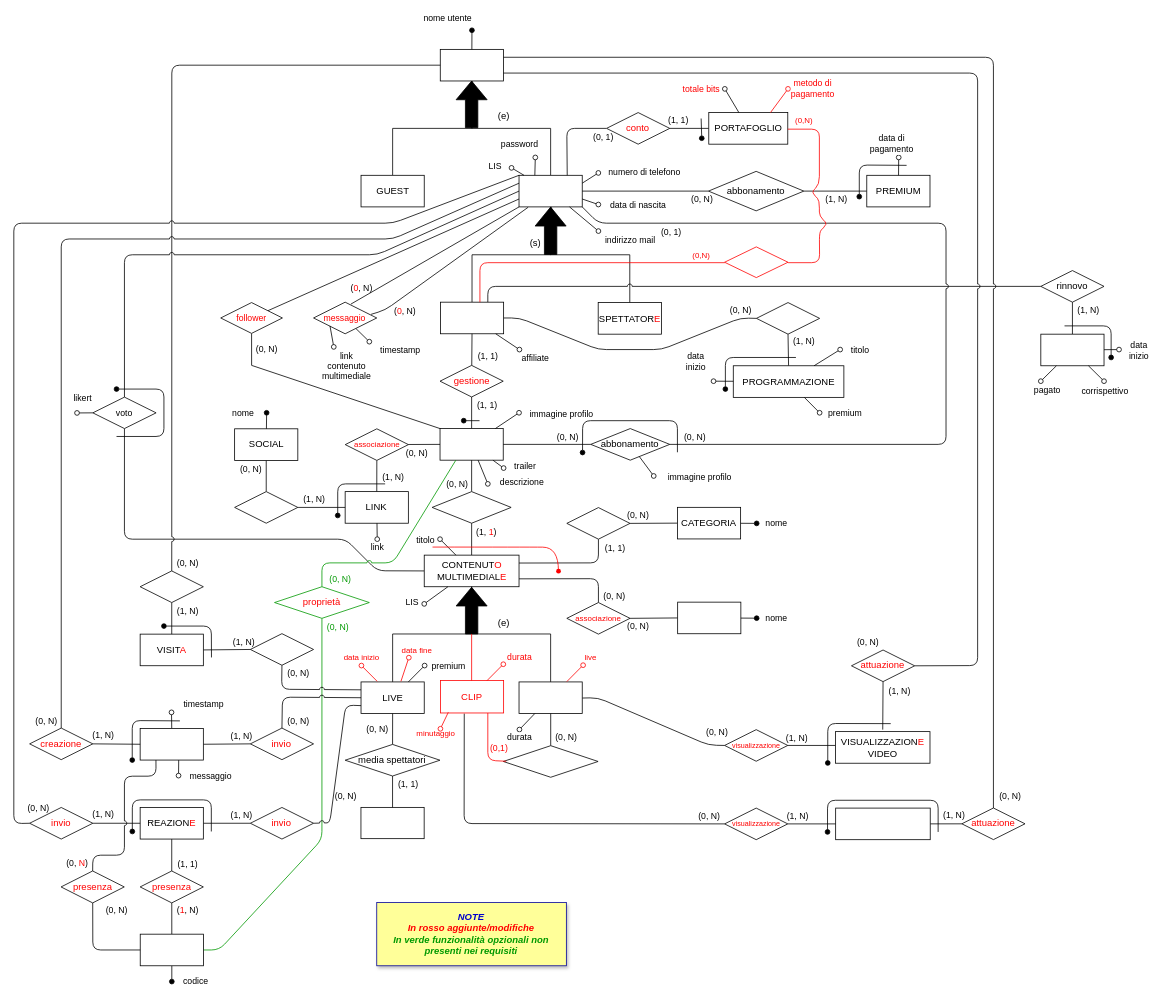
The diagram is 1162 pixels wide and 1002 high, and some of its shapes have lost their labels. The centre of each missing label's shape, as x and y in pixels:
"AFFLUENZA" goes at (392,823).
"appartenenza" goes at (598,523).
"CANALE" goes at (471,444).
"COMMENT O" goes at (171,744).
"contenitore" goes at (471,507).
"donazione" goes at (756,262).
"EMOJIS" goes at (171,949).
"HASHTAG" goes at (709,617).
"HOSTING" goes at (1072,349).
"REGISTRAT O" goes at (550,191).
"riferimento" goes at (282,649).
"scomposizione" goes at (550,761).
"STREAMER" goes at (472,317).
"streaming" goes at (788,318).
"tipologia" goes at (266,507).
"UTENT E" goes at (471,65).
"VIDEO" goes at (550,697).
"visita" goes at (171,586).
"VISUALIZZAZION E CLIP" goes at (882,823).
